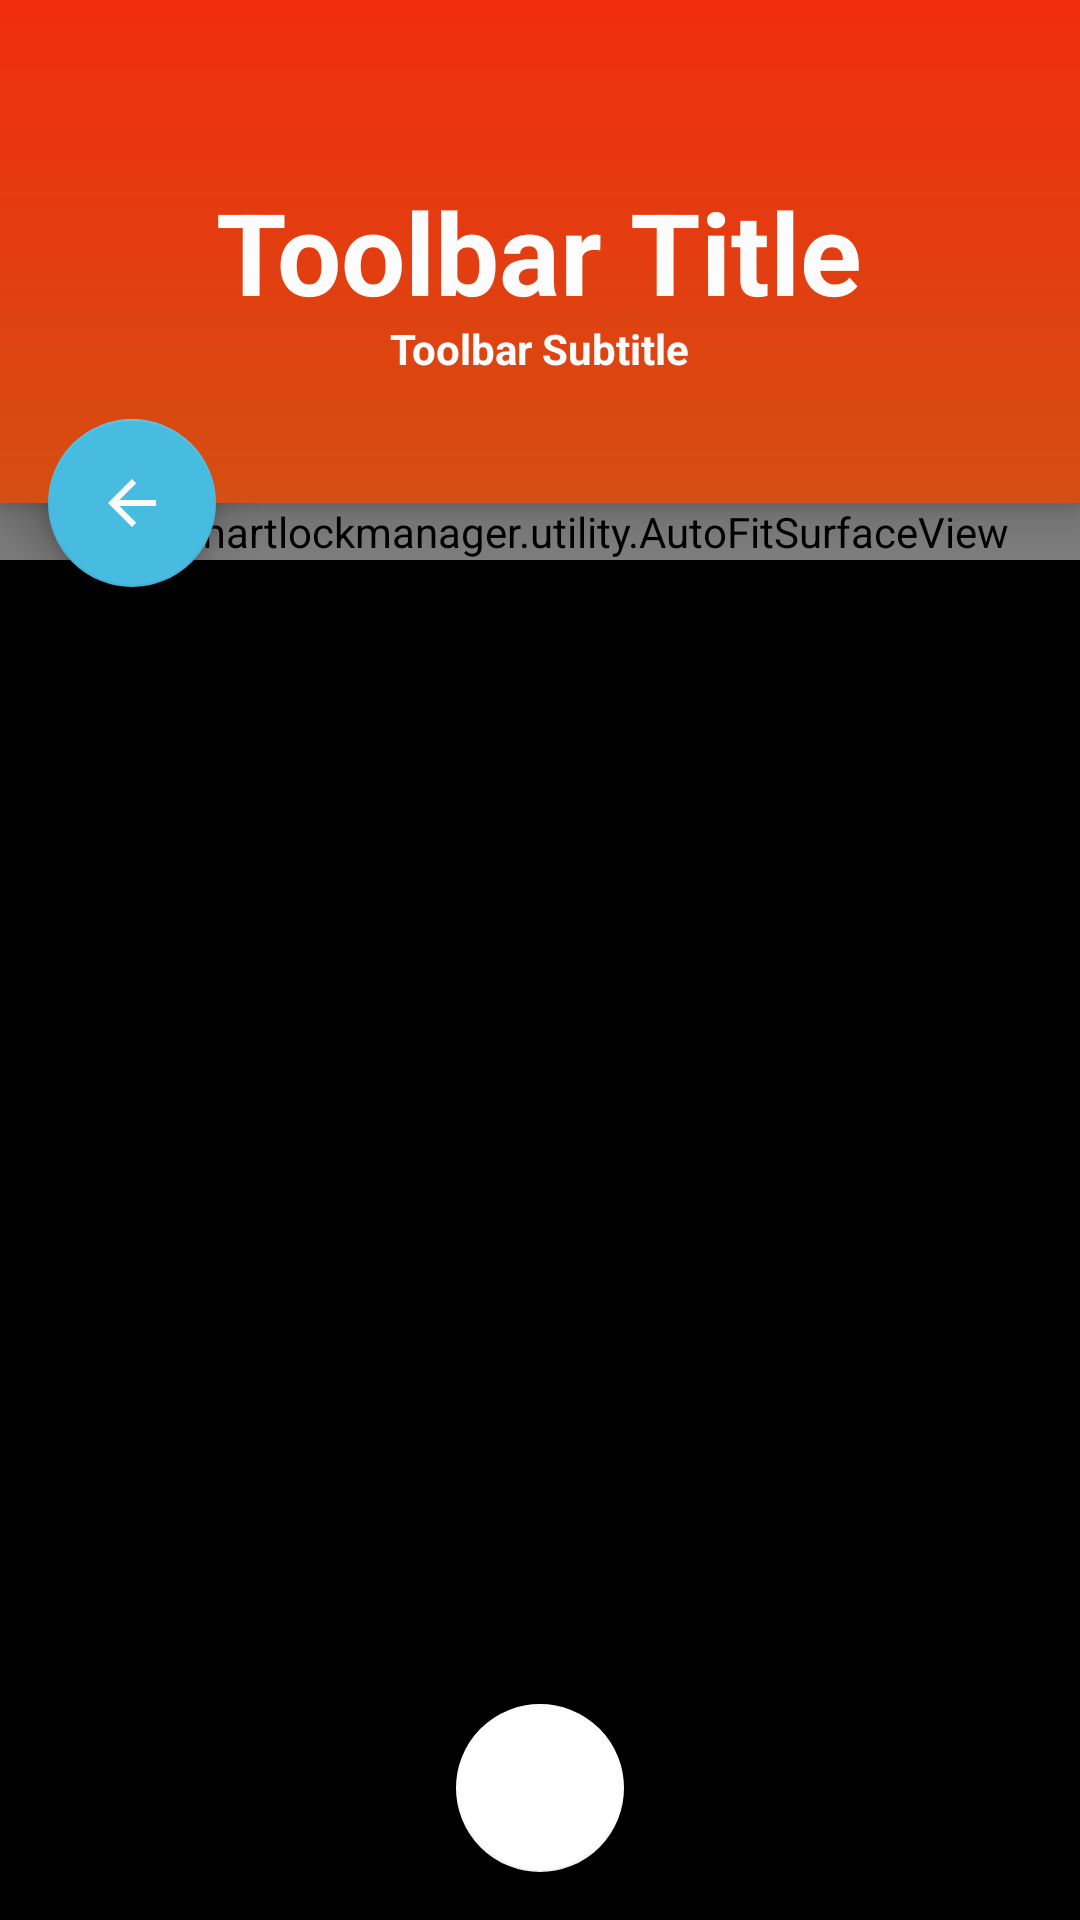

Icon click points for this 1080×1920 phone screenshot, format (x,y):
arrow back: (132,503)
